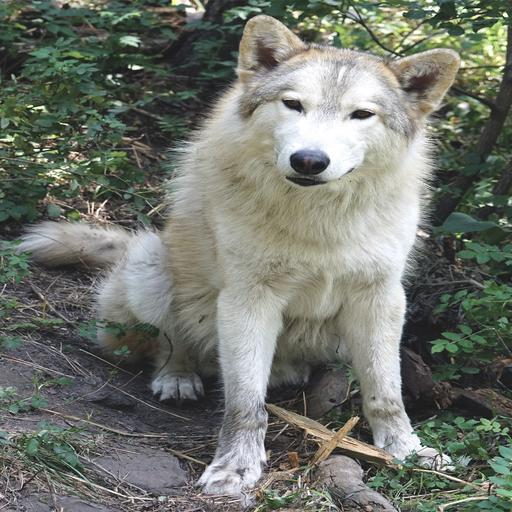Wolf: (13, 13, 465, 500)
